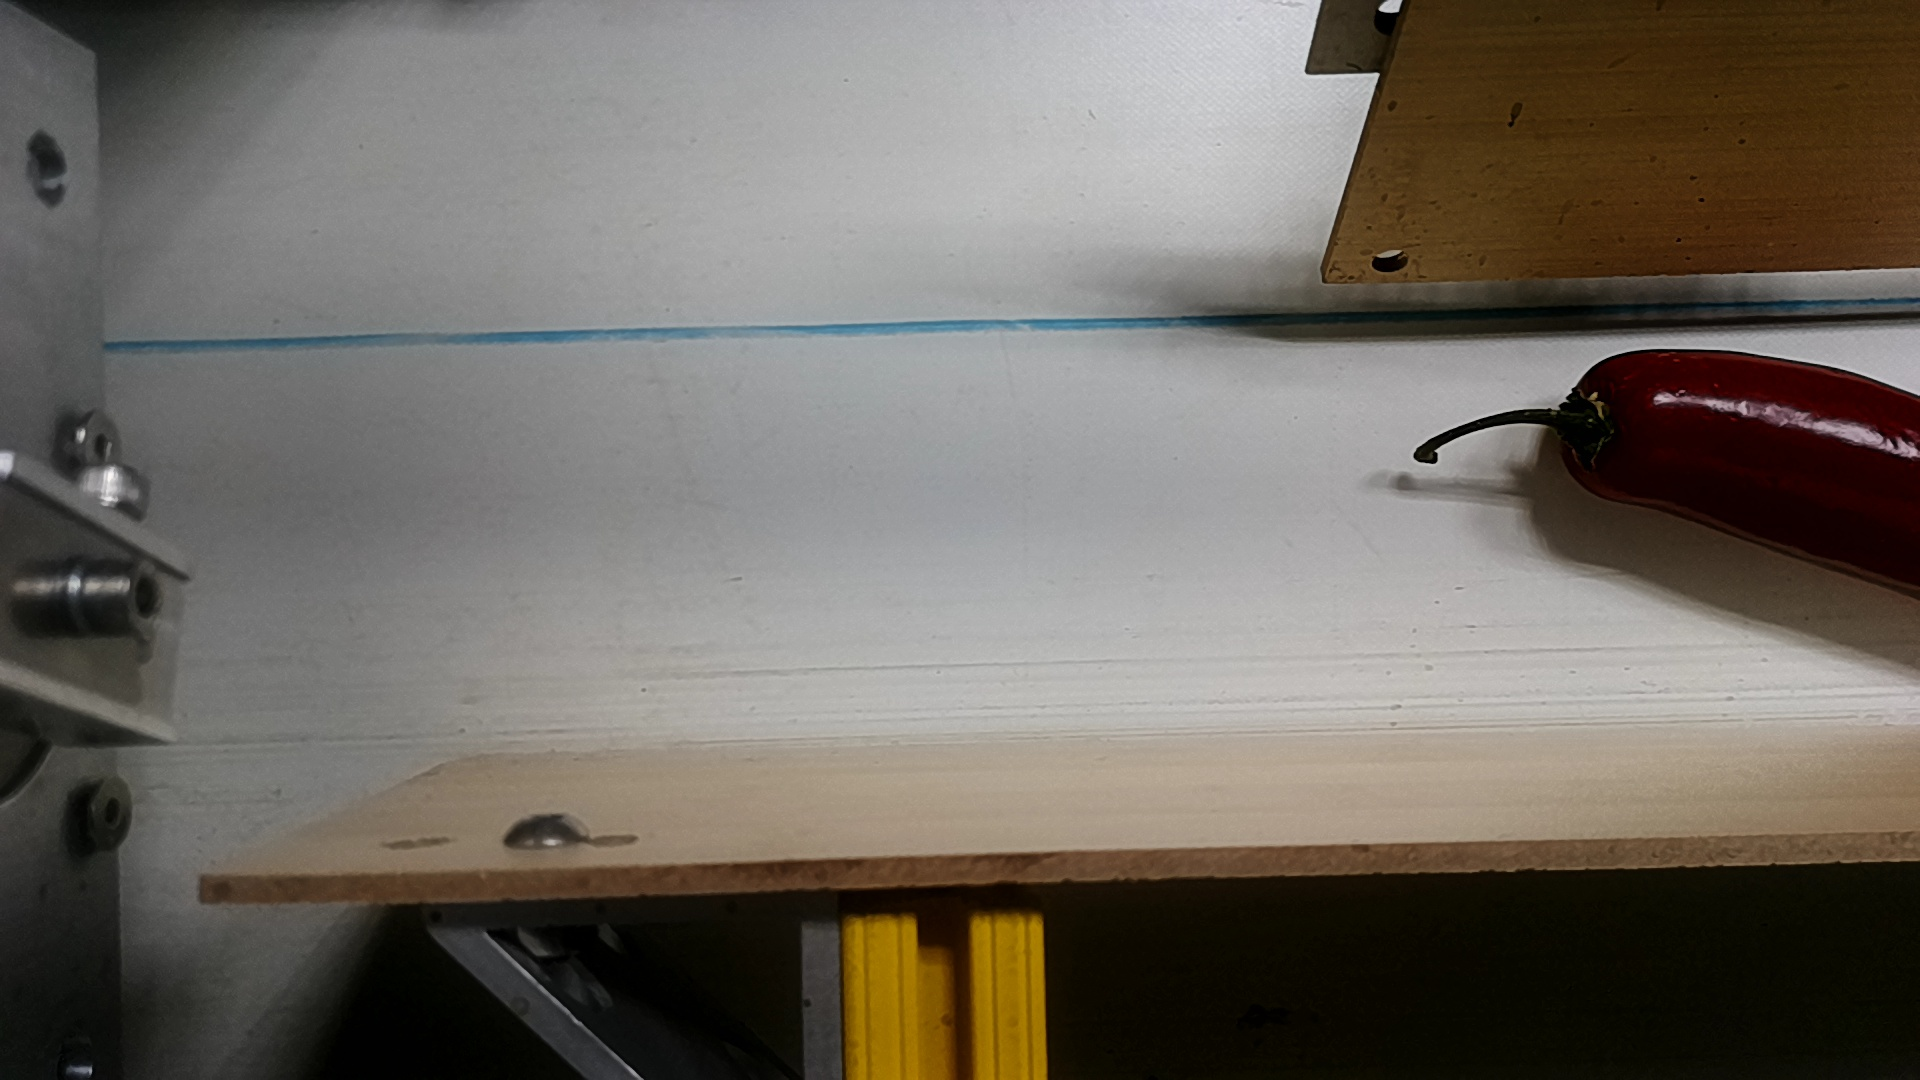Cut Point: (1534, 349, 1648, 500)
